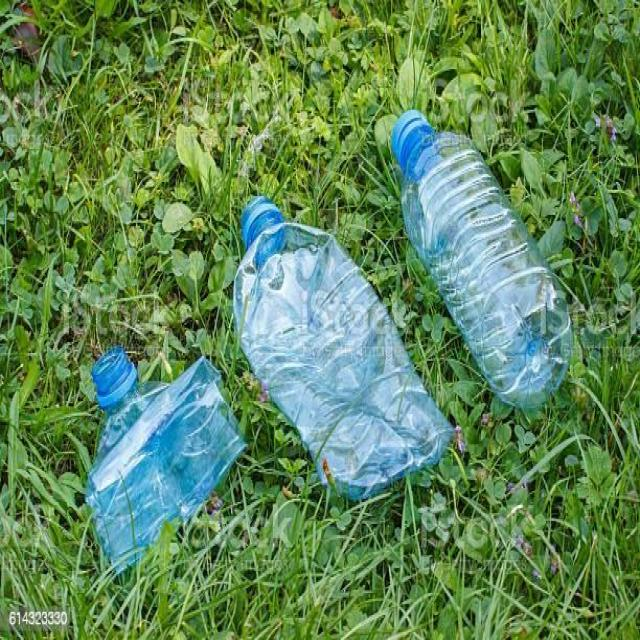bottle: (225, 189, 458, 505), (382, 112, 578, 421), (75, 352, 250, 586)
